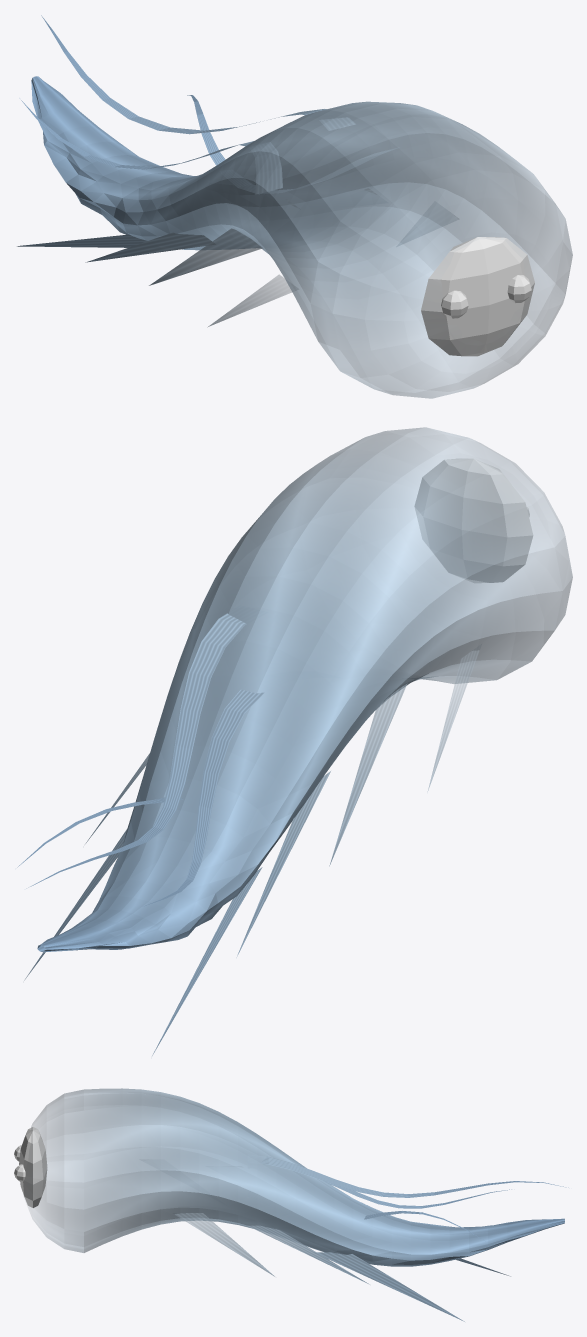
Rendered from FogWisp.glb.
3 renders of one model, top to bottom at view 1: azimuth 30°, elevation 25°; view 2: azimuth 150°, elevation 25°; view 3: azimuth 270°, elevation 25°, orthographic. The views are drawn at different scales.
Parts seen in each view (by area): view 1: FogWisp; view 2: FogWisp; view 3: FogWisp.
Boxes of the visible parts, x1,y1,x2,y2 form: FogWisp: (17,15,572,398); FogWisp: (17,427,572,1055); FogWisp: (14,1088,568,1321).
Size of the model in its own units: 1.28 by 1.58 by 3.95.
3 materials, 1 textured.
